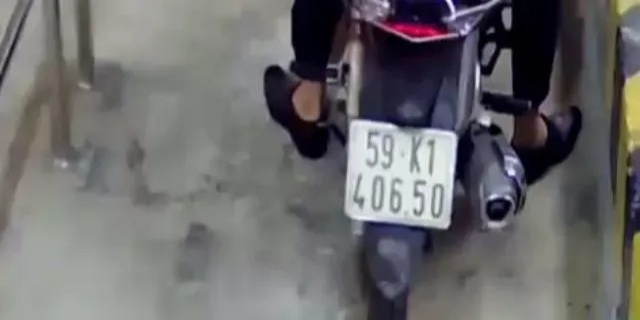bien_so: (343, 119, 456, 230)
